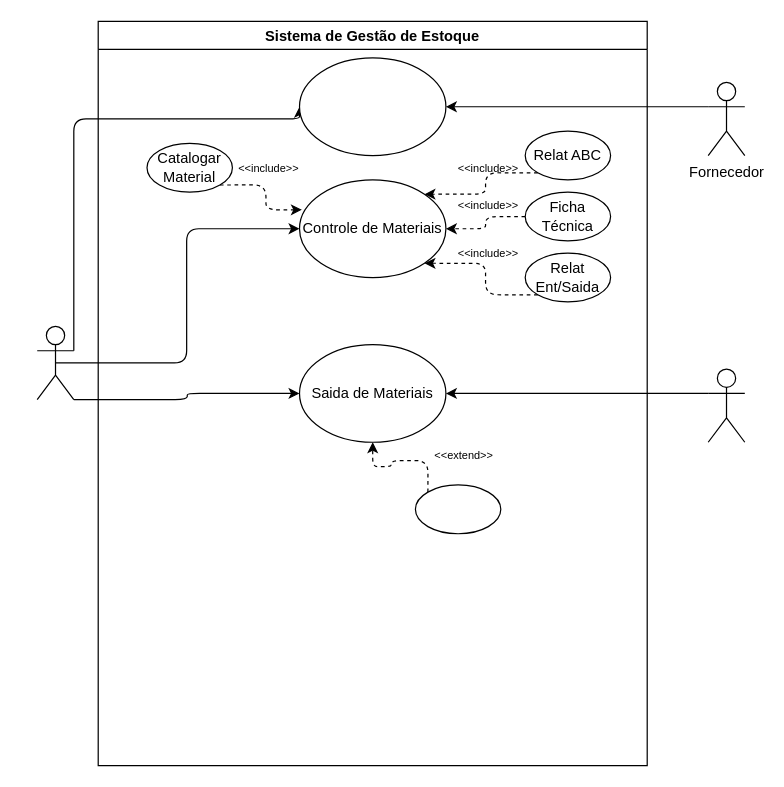
Image size: 784x787. Some labels were removed from this diagram. Here are the shapes that lost their labels. From the top down, the box of each, then its label:
(298, 57, 446, 156): Entrada de Materiais
(36, 325, 74, 400): Almoxarife
(707, 368, 745, 442): Solicitante
(414, 484, 501, 534): Descarte
